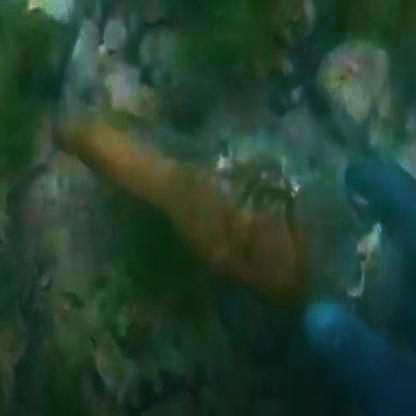gbottle: (36, 75, 332, 306)
